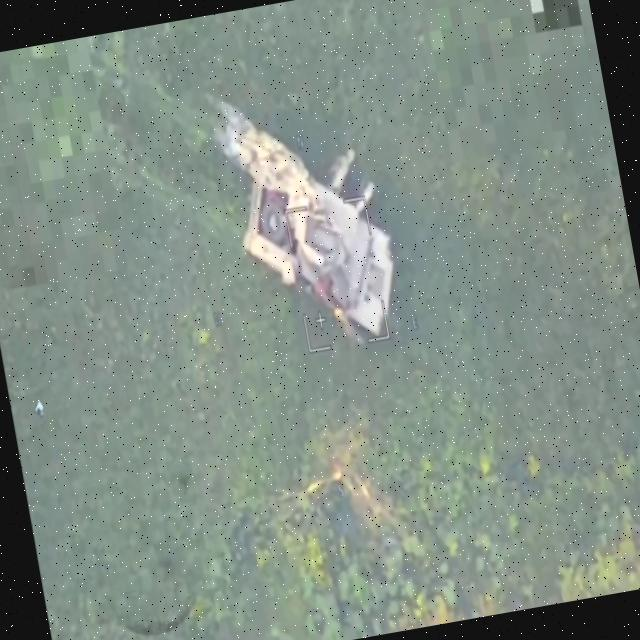Vehicle: (225, 101, 412, 374)
